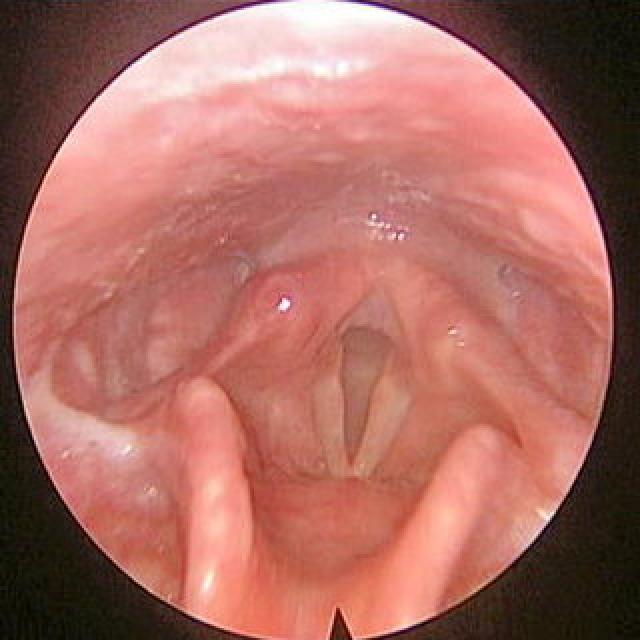arytenoid cartilagerotation: (200, 251, 542, 419)
epiglottisrotation: (164, 372, 512, 635)
larynxrotation: (307, 284, 418, 481)
